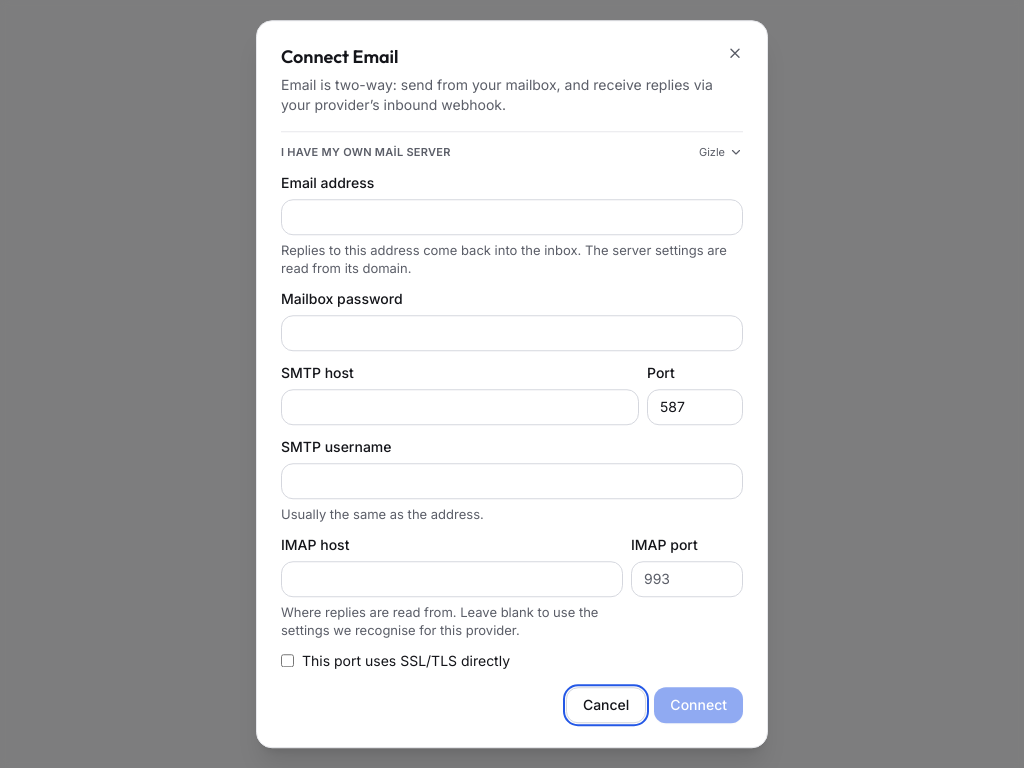
Scenario: EmailChannelDialog — consent first, password as the fallback › custom SMTP › fills the server settings in from the address, so the form asks for two things
The width and height of the screenshot is (1024, 768).
Type "admin@figurunica.com" into the field labelled "Email address" at (512, 217), box [281,199,743,235]
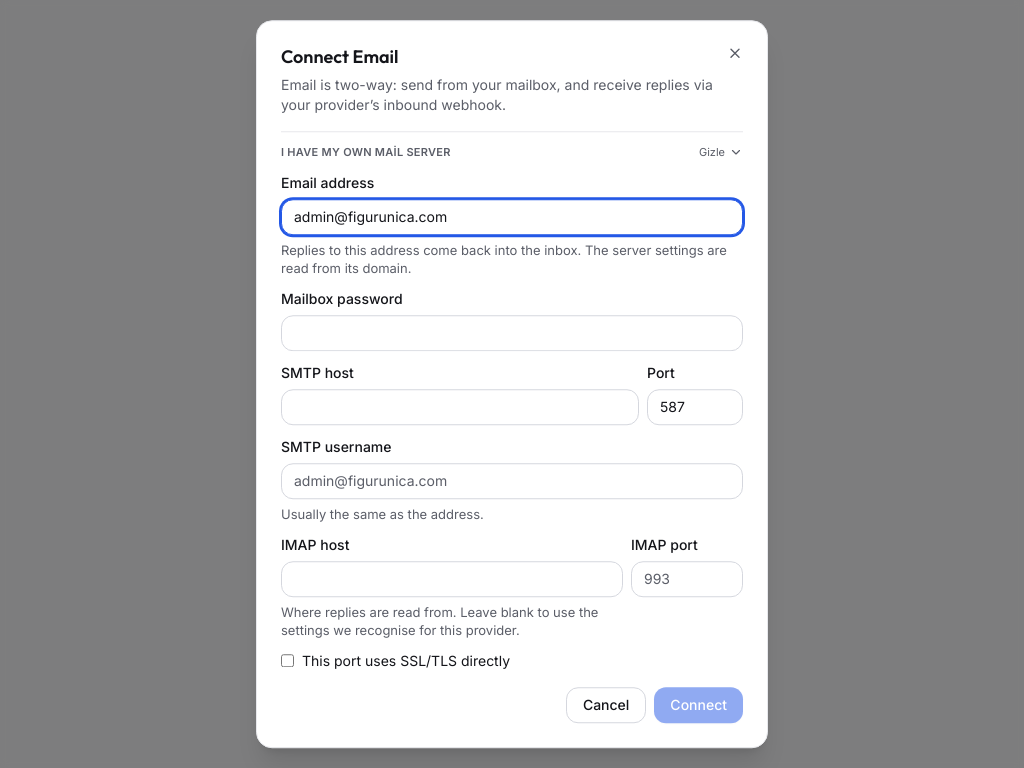
Press Tab
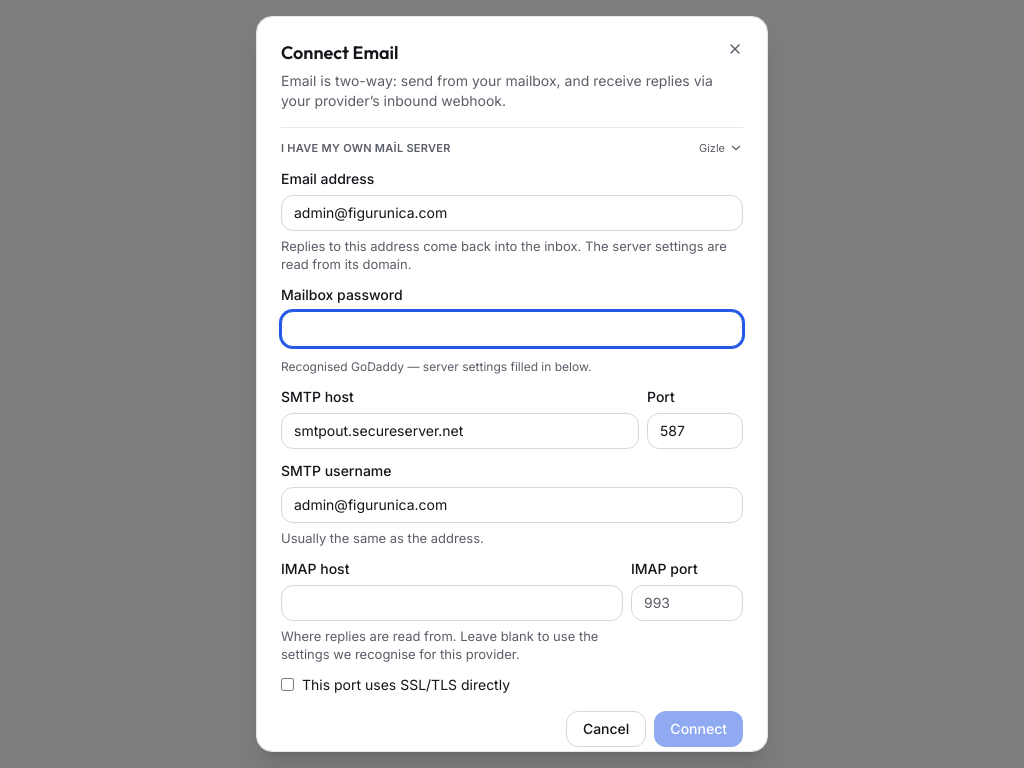
Expected: the field labelled "SMTP host" holds "smtpout.secureserver.net", [281,412,639,448]
Expected: the field labelled "SMTP username" holds "admin@figurunica.com", [281,486,743,522]
Expected: the text "Recognised GoDaddy — server settings filled in below." is shown, [281,358,591,374]
